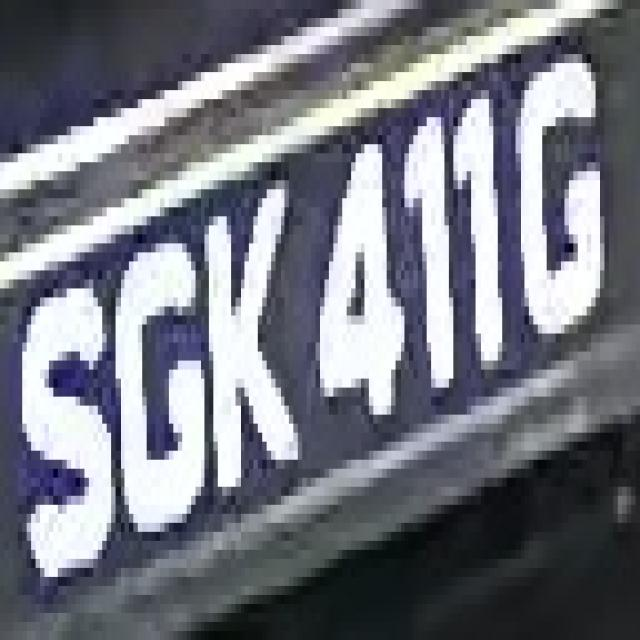1: (444, 54, 524, 379), (396, 117, 458, 424)
4: (298, 135, 409, 460)
G: (107, 207, 209, 550), (502, 36, 614, 334)
K: (195, 189, 294, 487)
S: (18, 243, 120, 613)
